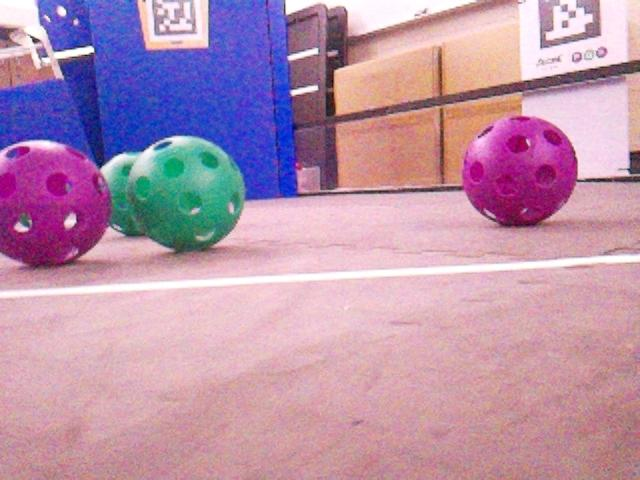Green: (124, 137, 243, 250), (98, 153, 143, 234)
Purple: (0, 140, 111, 264), (462, 114, 577, 225), (295, 160, 302, 170)
